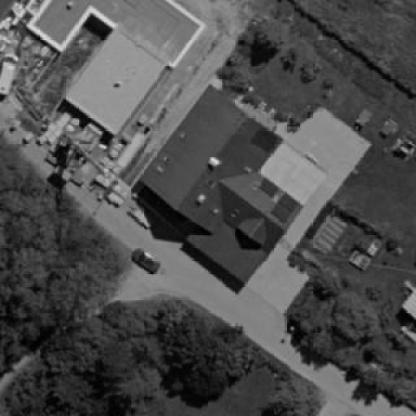solar-pv-panel: (269, 193, 298, 223), (259, 180, 279, 198)
